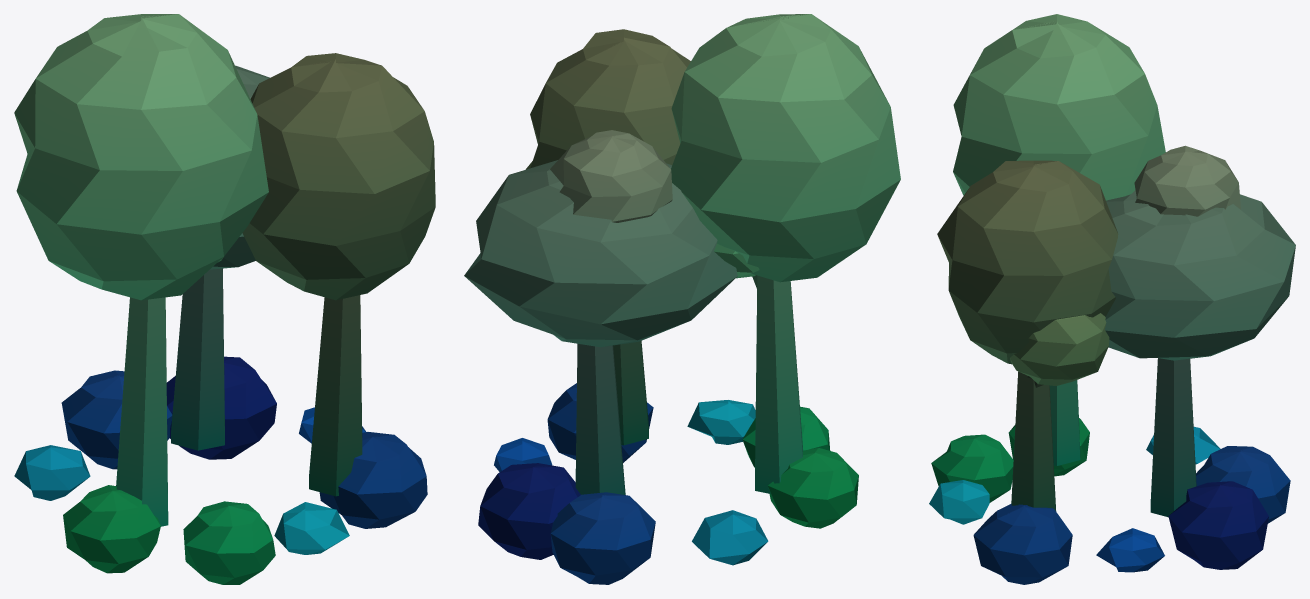
File: broadleaf_04.glb
The picture shows the model from 3 angles, left to right: view 1: azimuth 30°, elevation 25°; view 2: azimuth 150°, elevation 25°; view 3: azimuth 270°, elevation 25°; orthographic projection. The views are drawn at different scales.
Parts seen in each view (by area): view 1: broadleaf_04; view 2: broadleaf_04; view 3: broadleaf_04.
Boxes of the visible parts, x1=… form: broadleaf_04: x1=14, y1=14, x2=435, y2=584; broadleaf_04: x1=464, y1=14, x2=900, y2=584; broadleaf_04: x1=929, y1=14, x2=1295, y2=584.
Bounding box in the file's own units: 0.94 × 1.27 × 0.9003.
